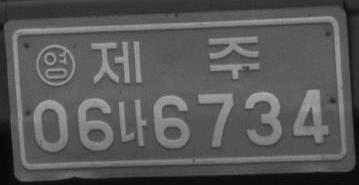0: (32, 99, 69, 154)
3: (245, 90, 283, 146)
4: (292, 89, 329, 144)
6: (151, 94, 190, 150), (77, 96, 114, 153)
7: (197, 91, 234, 148)
나: (117, 99, 147, 146)
영: (34, 44, 77, 86)
제주_D: (90, 34, 260, 85)
